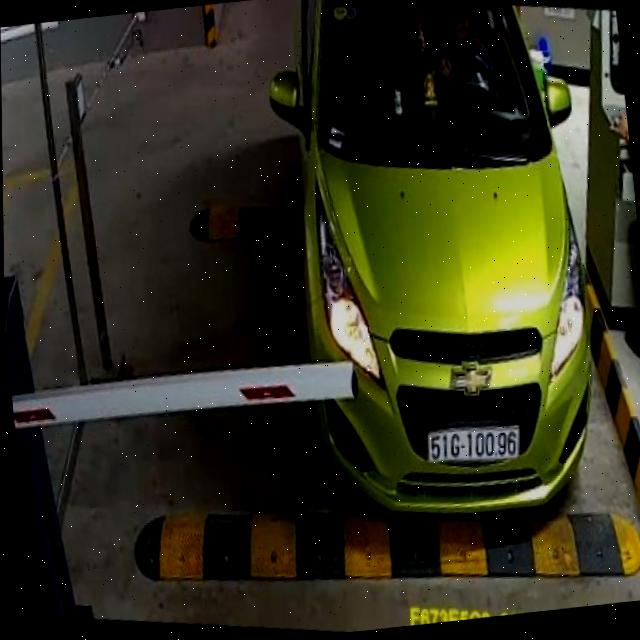car: (253, 0, 617, 542)
plate: (424, 415, 527, 472)
